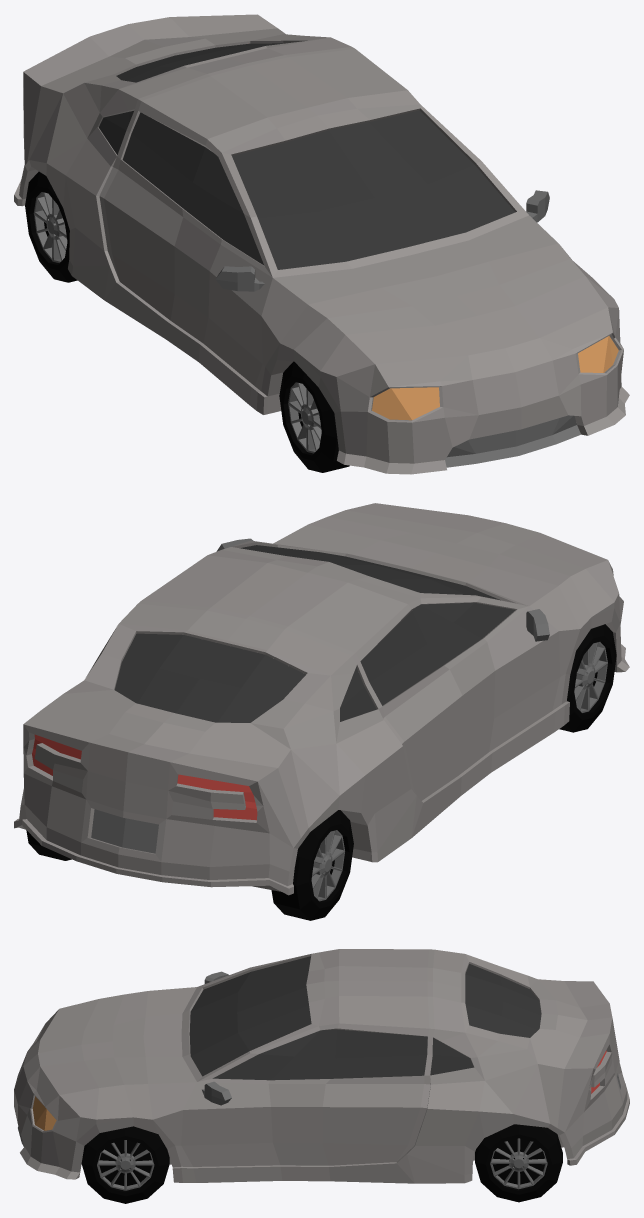
Rendered from SportsCar2.glb.
The picture shows the model from 3 angles, top to bottom: view 1: azimuth 30°, elevation 25°; view 2: azimuth 150°, elevation 25°; view 3: azimuth 270°, elevation 25°; orthographic projection. The views are drawn at different scales.
Parts seen in each view (by area): view 1: SportsCar2, SportsCar2_FrontRightWheel, SportsCar2_BackWheels; view 2: SportsCar2, SportsCar2_BackWheels, SportsCar2_FrontRightWheel; view 3: SportsCar2, SportsCar2_BackWheels, SportsCar2_FrontLeftWheel.
Boxes of the visible parts, <box> form: SportsCar2: <box>14,14,629,474</box>; SportsCar2_FrontRightWheel: <box>279,361,349,472</box>; SportsCar2_BackWheels: <box>25,171,77,282</box>; SportsCar2: <box>14,503,629,895</box>; SportsCar2_BackWheels: <box>26,810,353,920</box>; SportsCar2_FrontRightWheel: <box>559,624,616,732</box>; SportsCar2: <box>14,949,629,1183</box>; SportsCar2_BackWheels: <box>475,1124,562,1202</box>; SportsCar2_FrontLeftWheel: <box>81,1126,169,1203</box>.
Size of the model in its own units: 1.87 by 1.2 by 3.93.
